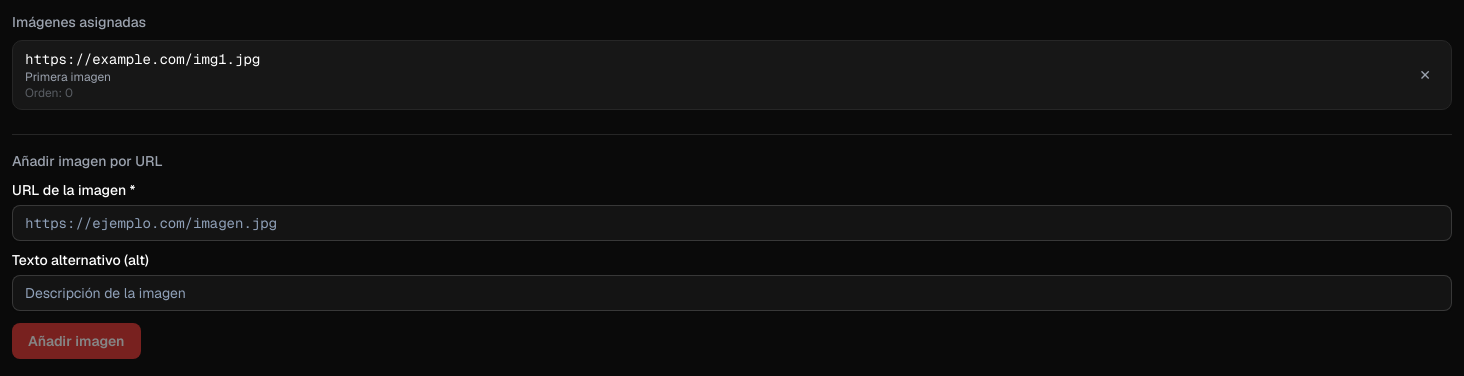
Test: ProductImagesPanel › eliminar imagen › elimina la imagen de la lista tras confirmar
Expected: the text "https://example.com/img1.jpg" is shown, [25,50,260,68]
Step 1. Click the button titled "Eliminar" → (1425, 75), box [1411,61,1439,89]
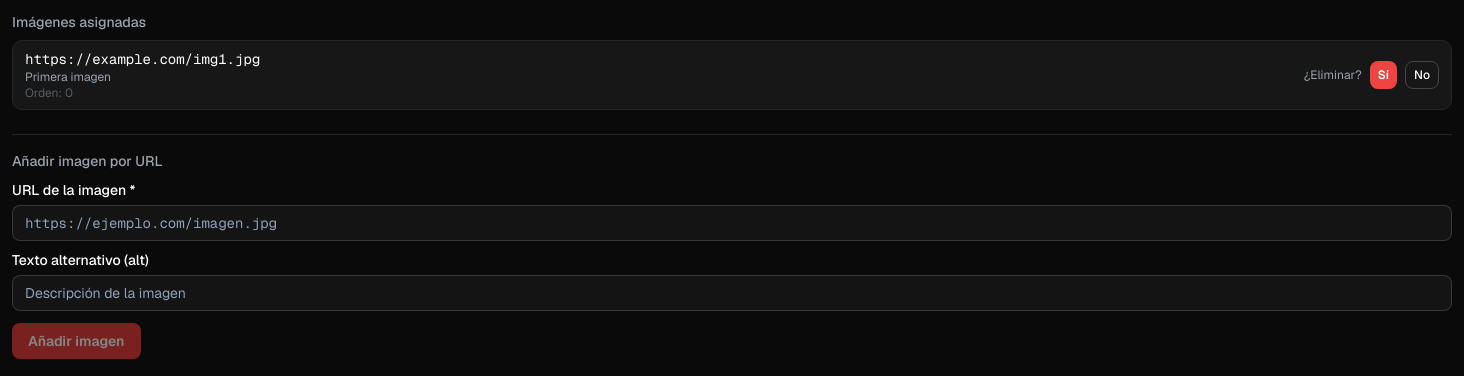
Step 2. Click the button "Sí" → (1384, 75), box [1370,61,1397,89]
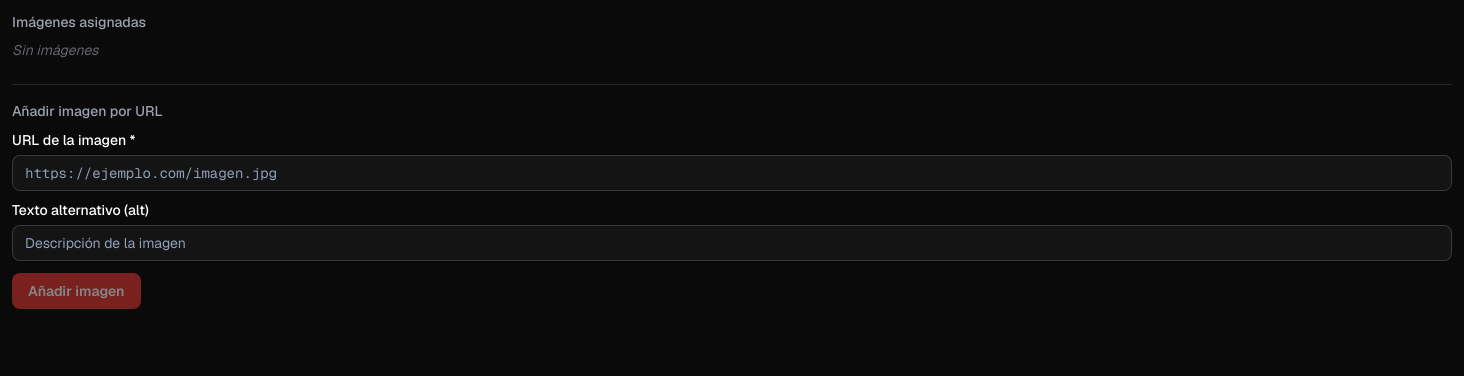
Expected: the text "https://example.com/img1.jpg" is gone
